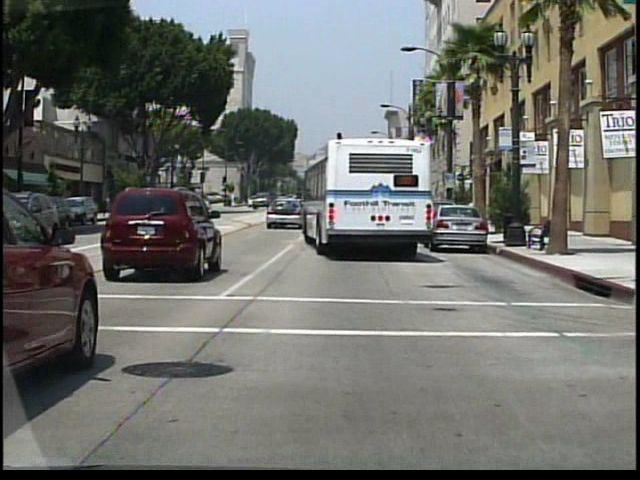person: (451, 190, 463, 228)
